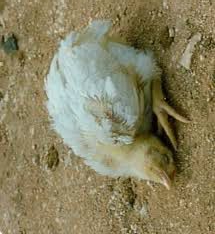Unhealthy: (43, 12, 193, 194)
